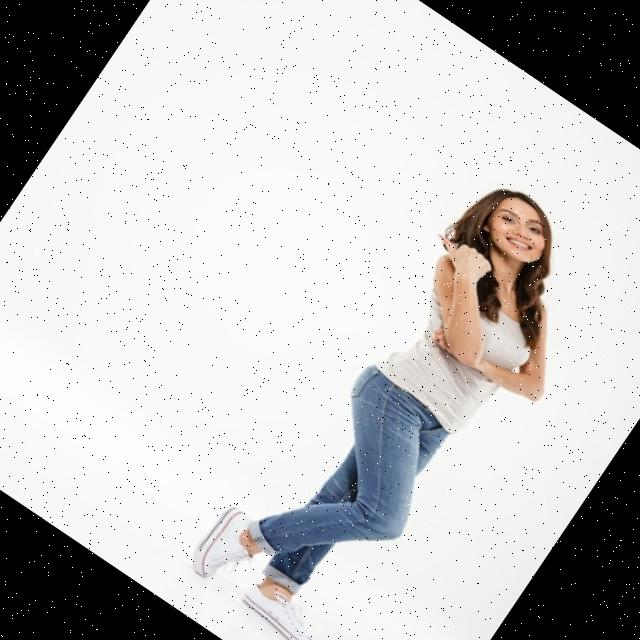Person: (178, 152, 631, 640)
